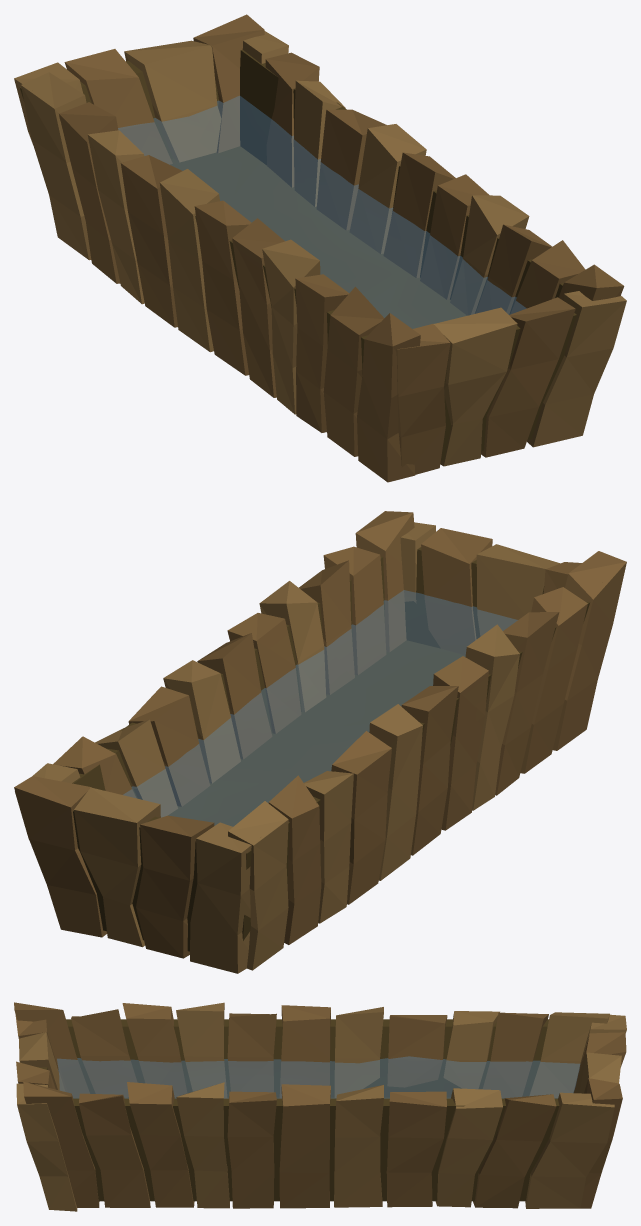
The model's file is Trough.dae.
3 renders of one model, top to bottom at view 1: azimuth 30°, elevation 25°; view 2: azimuth 150°, elevation 25°; view 3: azimuth 270°, elevation 25°, orthographic. The views are drawn at different scales.
Parts seen in each view (by area): view 1: Cube.002; view 2: Cube.002; view 3: Cube.002.
Boxes of the visible parts, <box> form: Cube.002: <box>14,14,626,482</box>; Cube.002: <box>14,511,626,973</box>; Cube.002: <box>14,1002,626,1211</box>.
Bounding box in the file's own units: 0.8417 × 2.32 × 0.5437.
